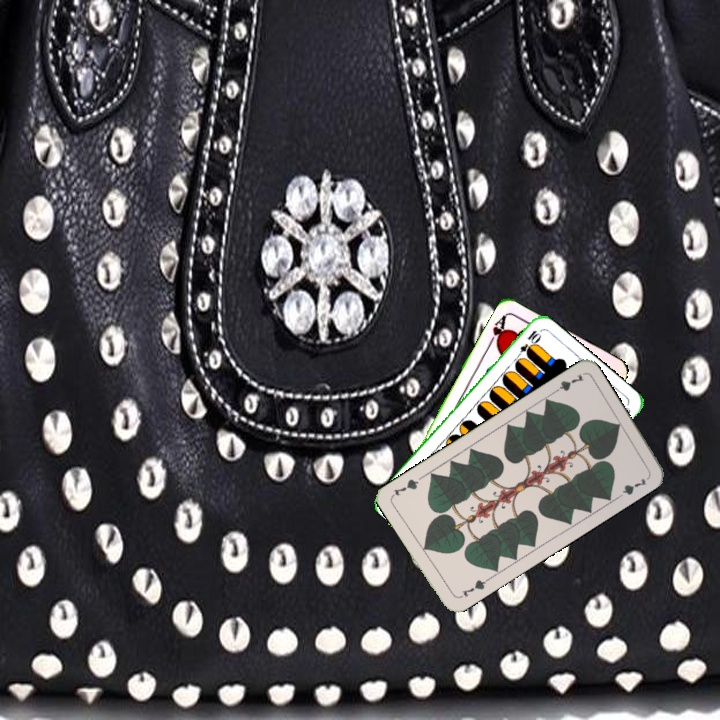E10: (511, 326, 542, 362)
G7: (548, 370, 587, 397), (455, 574, 491, 601)
HA: (484, 310, 510, 350)
